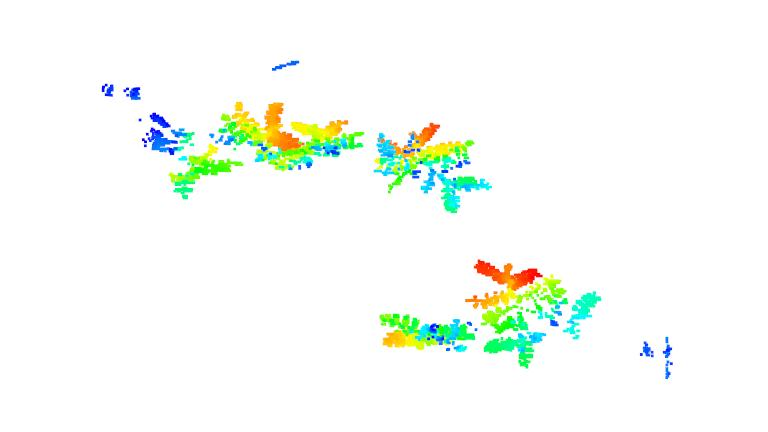chickpea: (370, 121, 495, 213), (462, 259, 569, 366), (131, 112, 244, 202), (210, 99, 313, 172), (290, 91, 369, 161), (379, 311, 479, 360), (547, 271, 604, 341)
